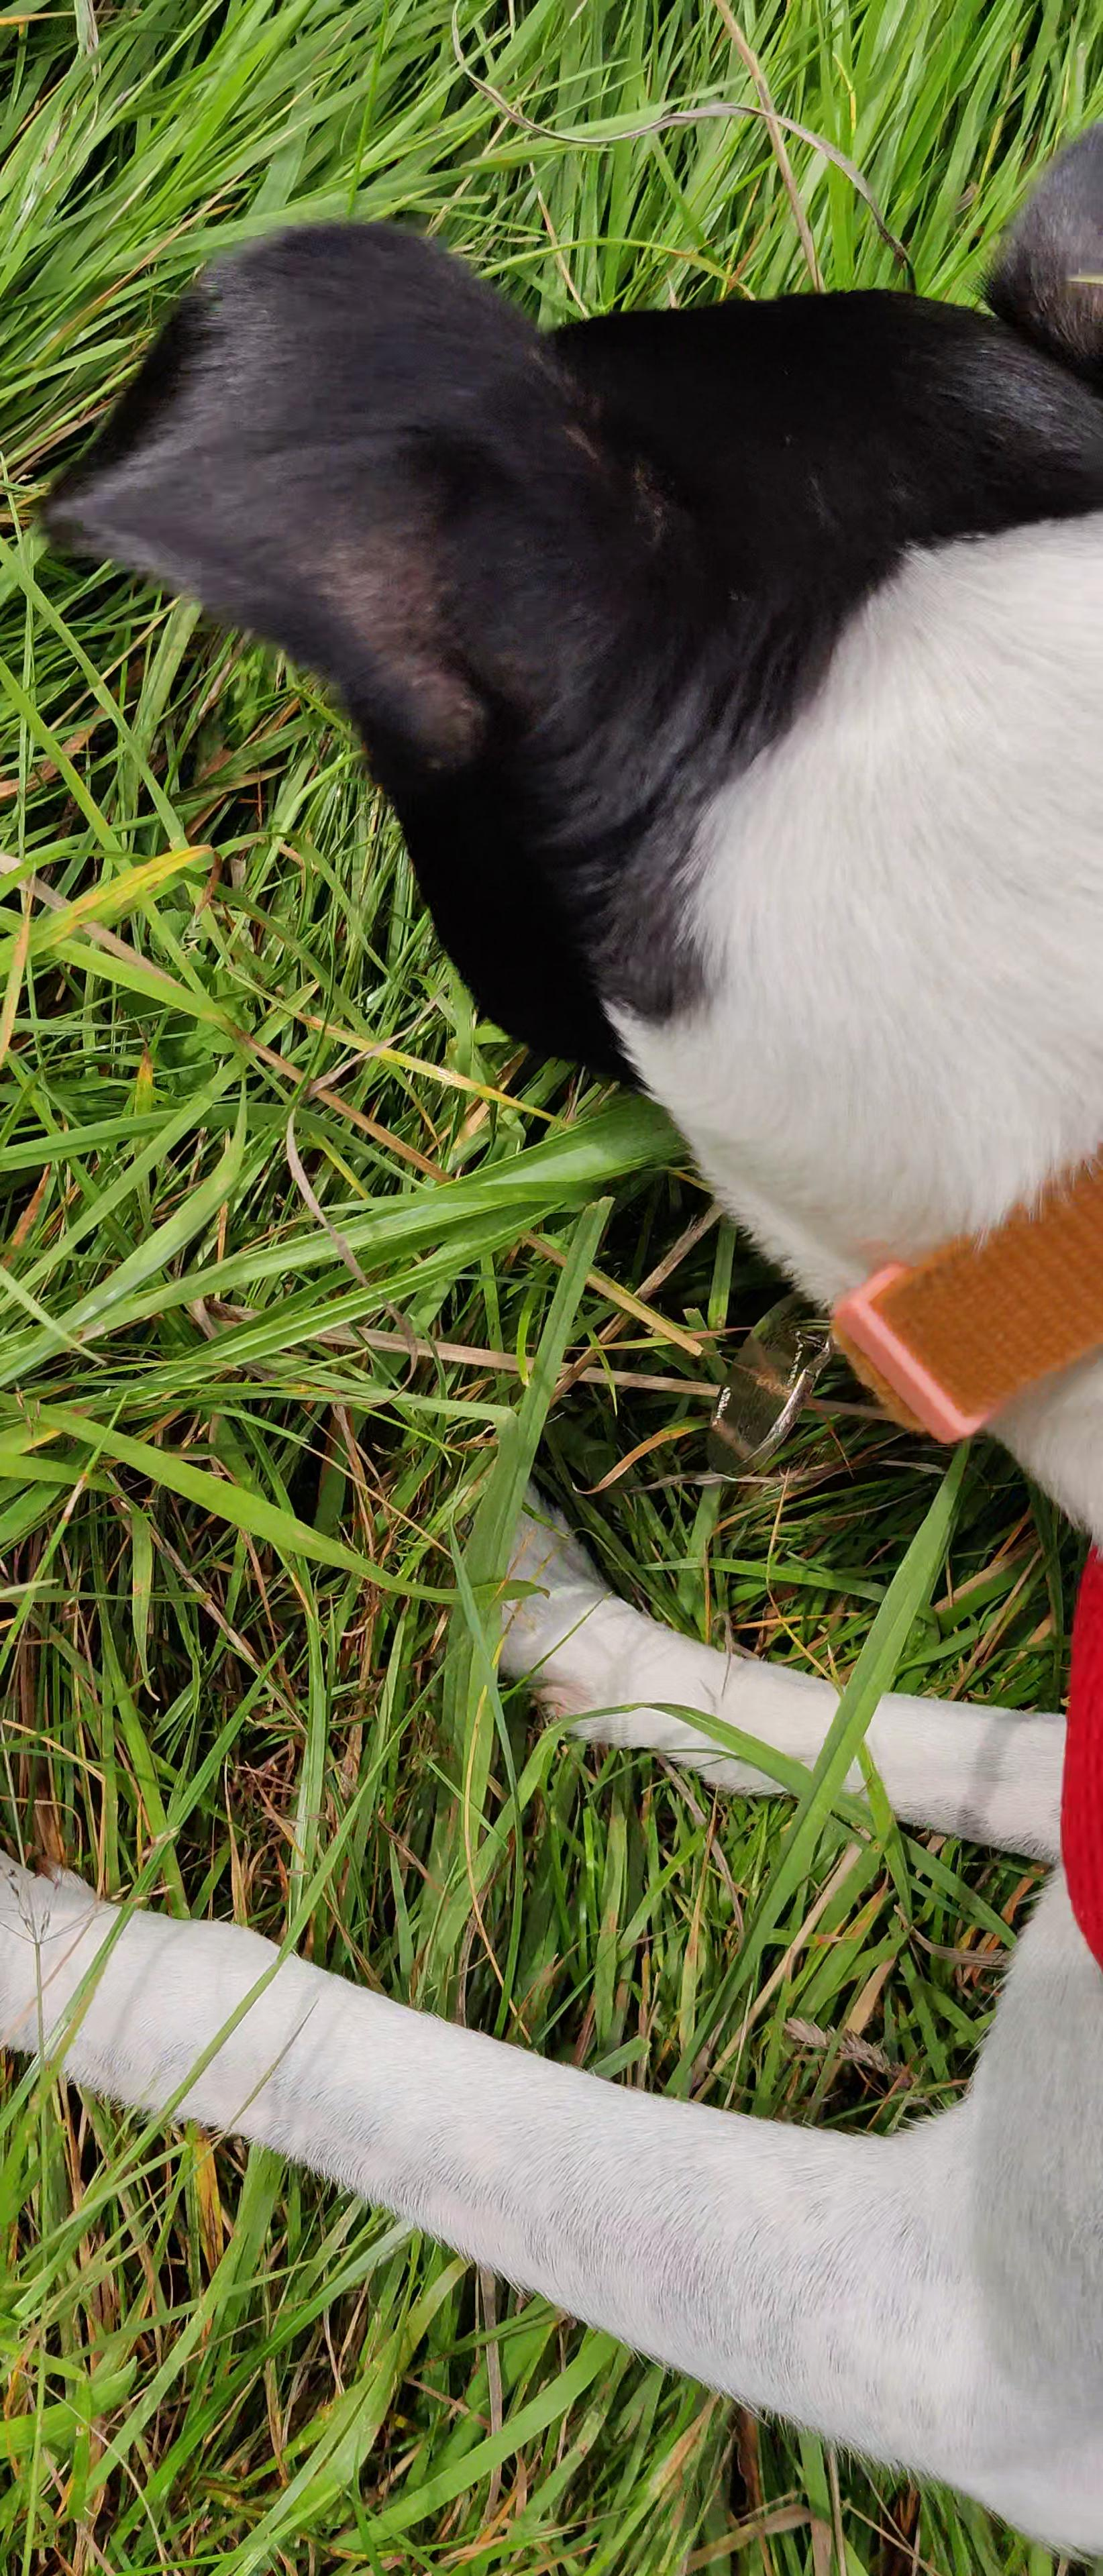Dog: (0, 102, 1103, 2576)
